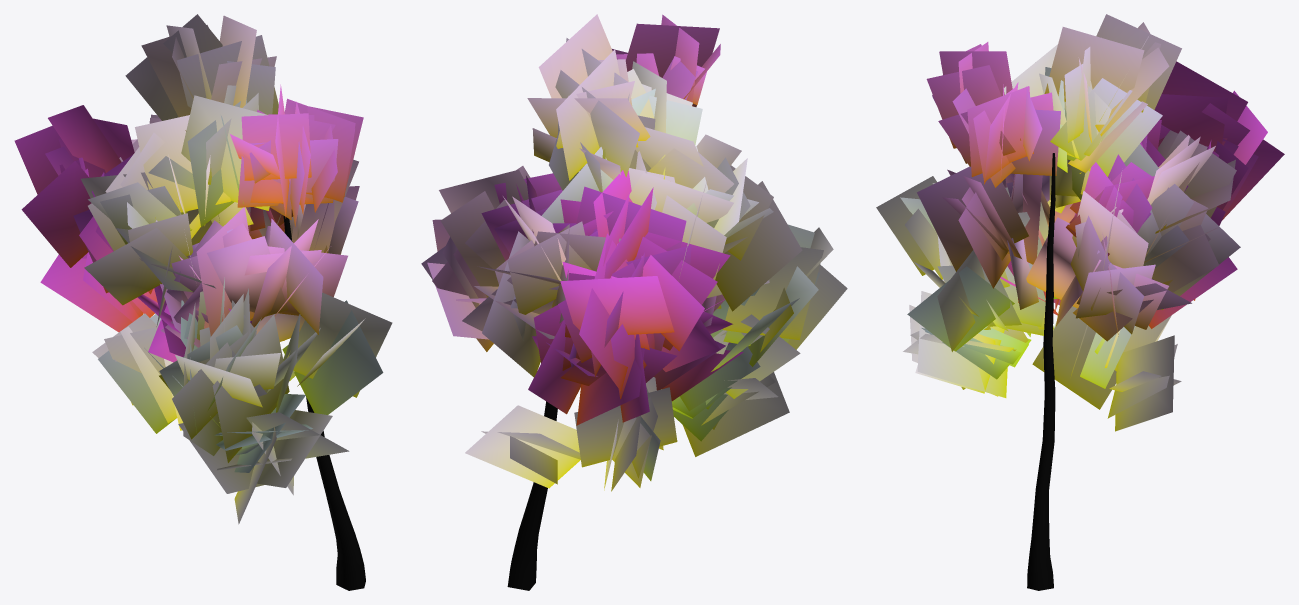
The model's file is tree_pine_d_lod1.glb.
3 renders of one model, left to right at view 1: azimuth 30°, elevation 25°; view 2: azimuth 150°, elevation 25°; view 3: azimuth 270°, elevation 25°, orthographic. The views are drawn at different scales.
Visible parts, largest first — view 1: tree_pine_d_lod1; view 2: tree_pine_d_lod1; view 3: tree_pine_d_lod1.
Boxes of the visible parts, x1,y1,x2,y2 form: tree_pine_d_lod1: (14, 14, 392, 590); tree_pine_d_lod1: (421, 14, 847, 590); tree_pine_d_lod1: (876, 14, 1284, 590).
Bounding box in the file's own units: 6.3 × 10.93 × 7.74.
